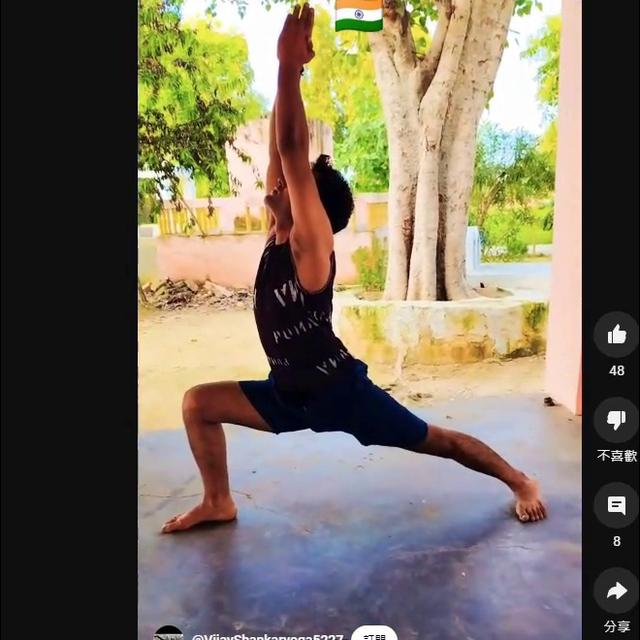Warrior_I: (150, 1, 553, 543)
